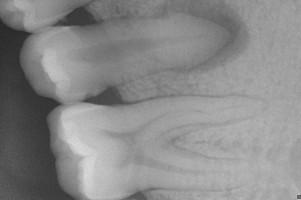Furcation Involvement: (151, 0, 250, 73)
